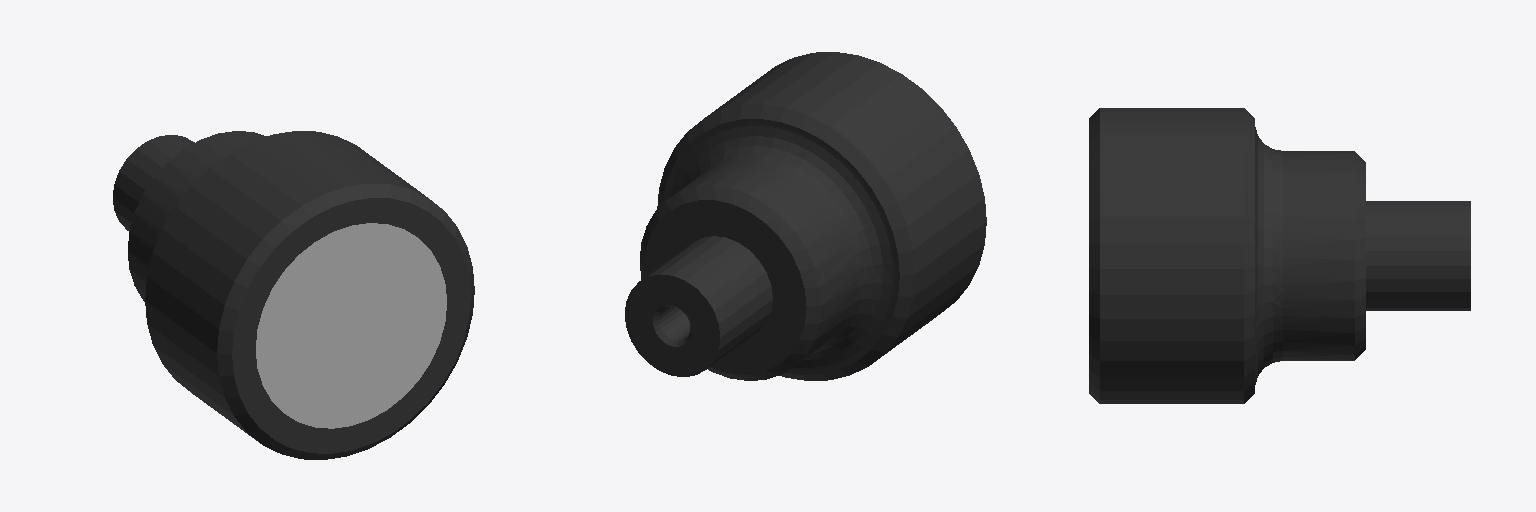
3 views of the same model, side by side, from view 1: azimuth 30°, elevation 25°; view 2: azimuth 150°, elevation 25°; view 3: azimuth 270°, elevation 25° (orthographic).
Visible parts, largest first — view 1: gn_3663-27-m4-0_7_1; view 2: gn_3663-27-m4-0_7_1; view 3: gn_3663-27-m4-0_7_1.
Boxes of the visible parts, box(x1,y1,x2,y2) form: gn_3663-27-m4-0_7_1: box(113, 131, 474, 459); gn_3663-27-m4-0_7_1: box(625, 52, 986, 380); gn_3663-27-m4-0_7_1: box(1089, 108, 1470, 403).
Bounding box in the file's own units: 26.9 × 26.9 × 34.5.